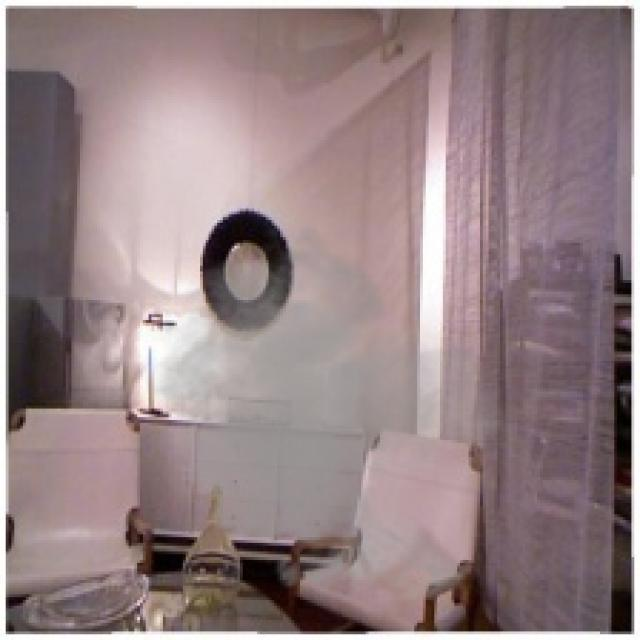Smoke: (128, 223, 534, 612)
